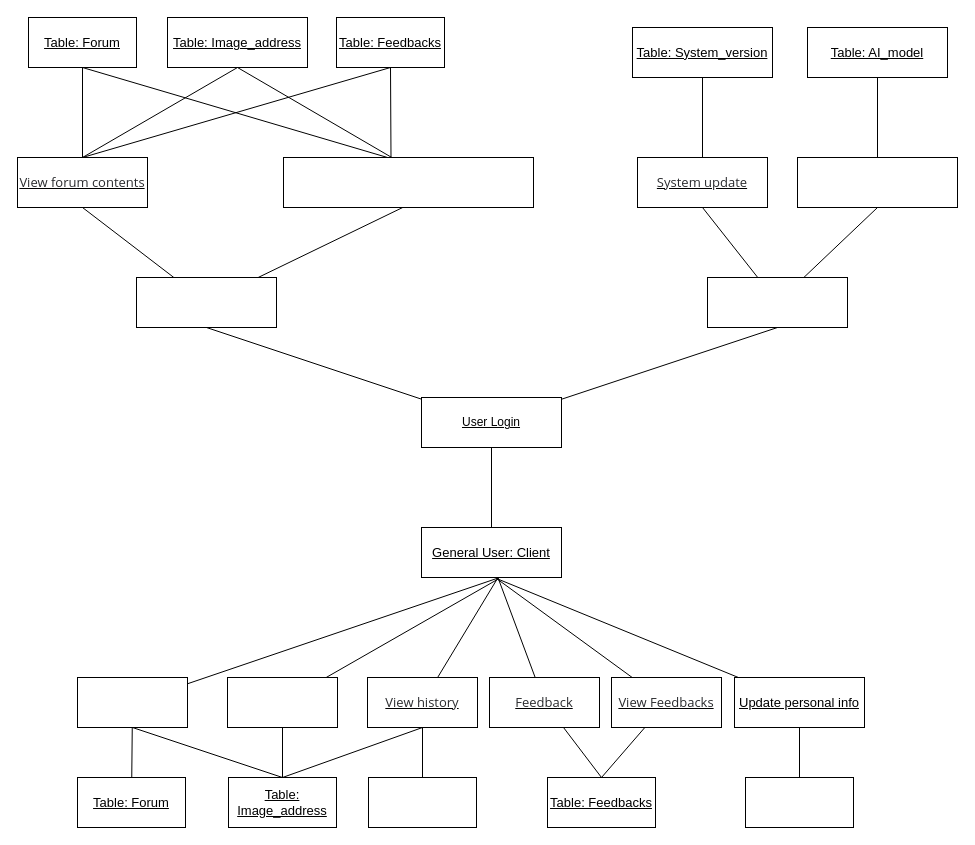
The diagram is 975 pixels wide and 845 high, and some of its shapes have lost their labels. The shapes that lost their labels are listed below. From the top down, each one's centre as x and y in pixels, then its label:
At [408,182]: "Manage contents (Image/Feedback)".
At [877,182]: "AI Model Modification".
At [206,302]: "Supervisor".
At [777,302]: "Admin".
At [132,702]: "Republish Image".
At [282,702]: "Image generation".
At [422,802]: "Table: History".
At [799,802]: "Table: User Info".
